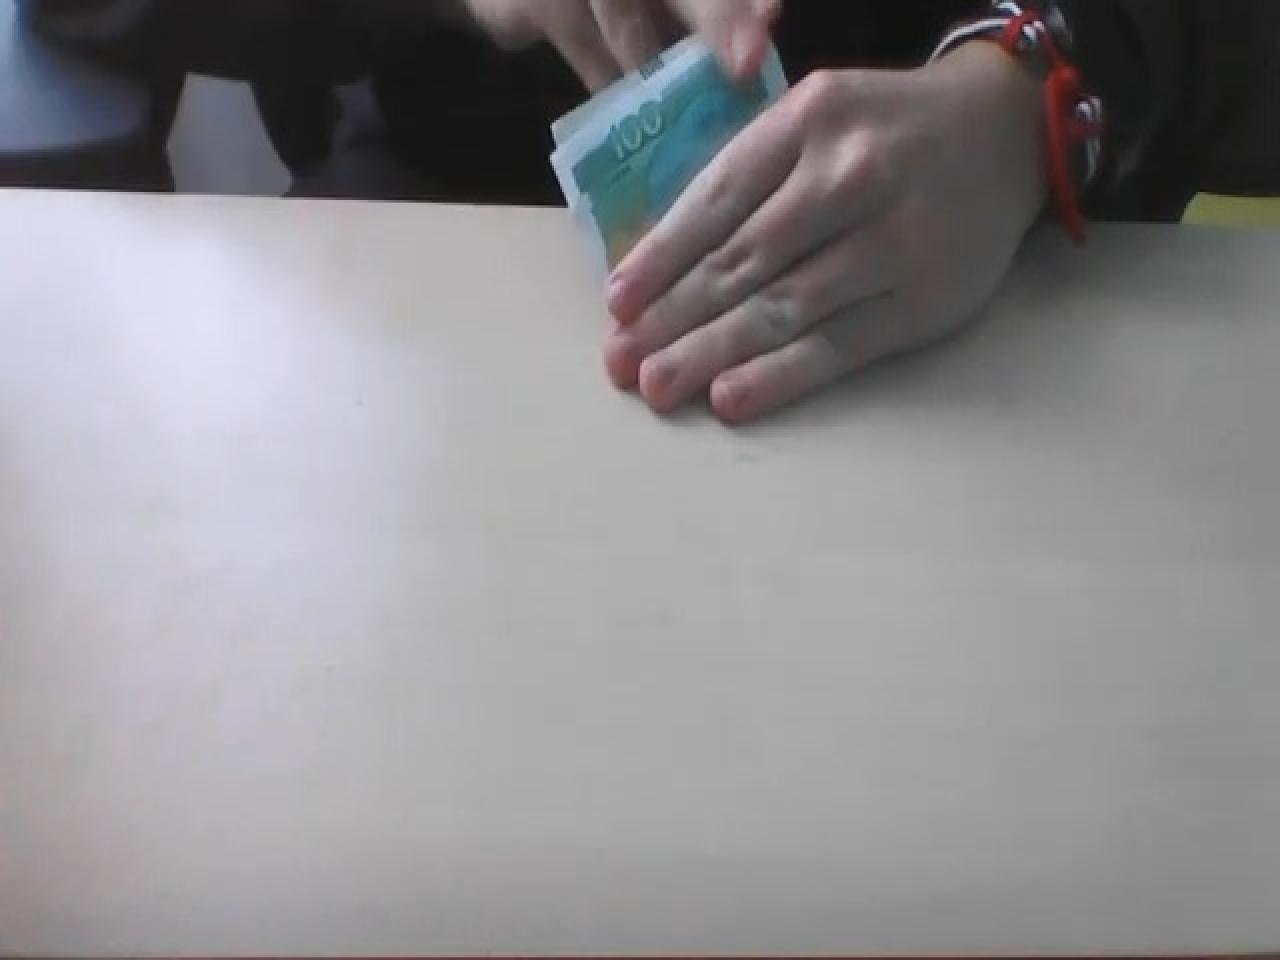100leva: (548, 32, 792, 269)
